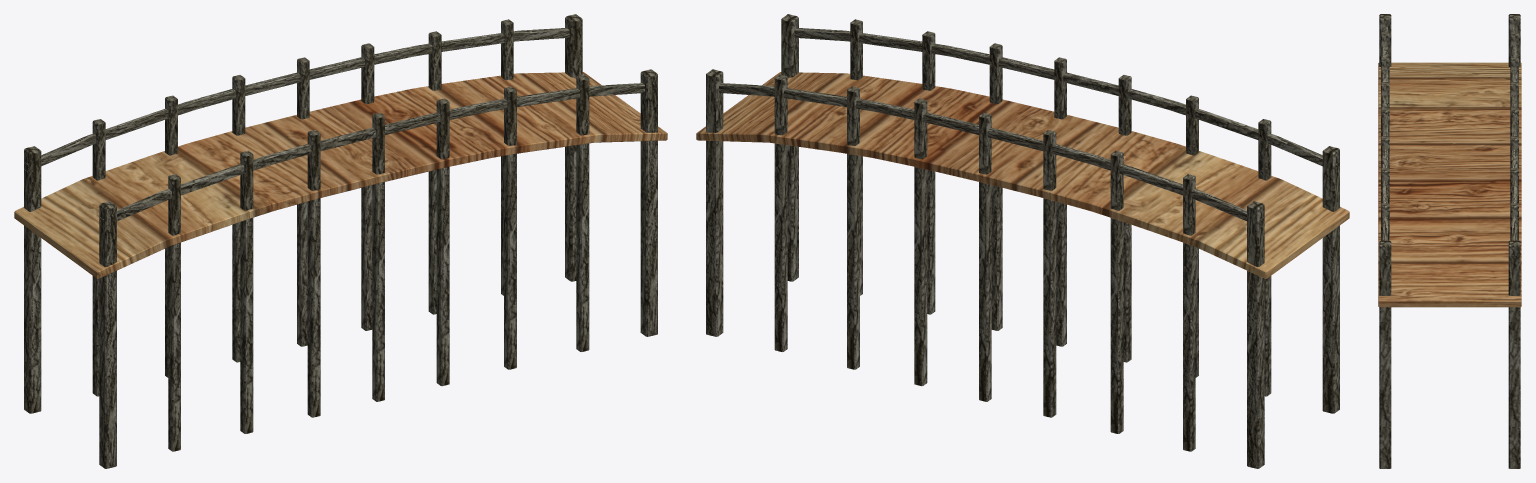
Rendered from Bridge.fbx.
3 views of the same model, side by side, from view 1: azimuth 30°, elevation 25°; view 2: azimuth 150°, elevation 25°; view 3: azimuth 270°, elevation 25° (orthographic). The views are drawn at different scales.
Parts seen in each view (by area): view 1: Bridge; view 2: Bridge; view 3: Bridge.
Boxes of the visible parts, x1,y1,x2,y2 form: Bridge: (14,14,667,468); Bridge: (696,14,1349,468); Bridge: (1378,14,1521,468).
Size of the model in its own units: 1518 by 723 by 385.
